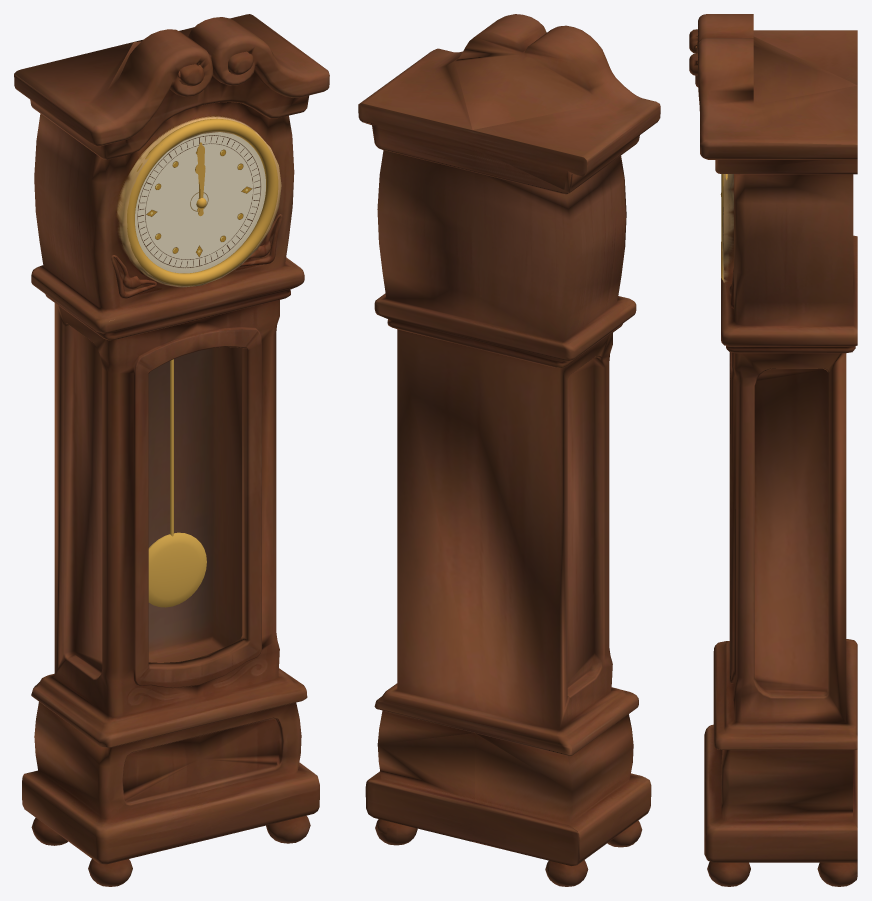
File: grandfather_clock_v2.glb
3 renders of one model, left to right at view 1: azimuth 30°, elevation 25°; view 2: azimuth 150°, elevation 25°; view 3: azimuth 270°, elevation 25°, orthographic. The views are drawn at different scales.
Parts seen in each view (by area): view 1: clock_body, pendulum; view 2: clock_body; view 3: clock_body.
Boxes of the visible parts, x1,y1,x2,y2 form: clock_body: (14,14,329,886); pendulum: (148,359,206,607); clock_body: (358,14,660,886); clock_body: (689,14,857,886).
Bounding box in the file's own units: 0.7257 × 2.4 × 0.4529.
Materials: 4 (2 with a texture image).
